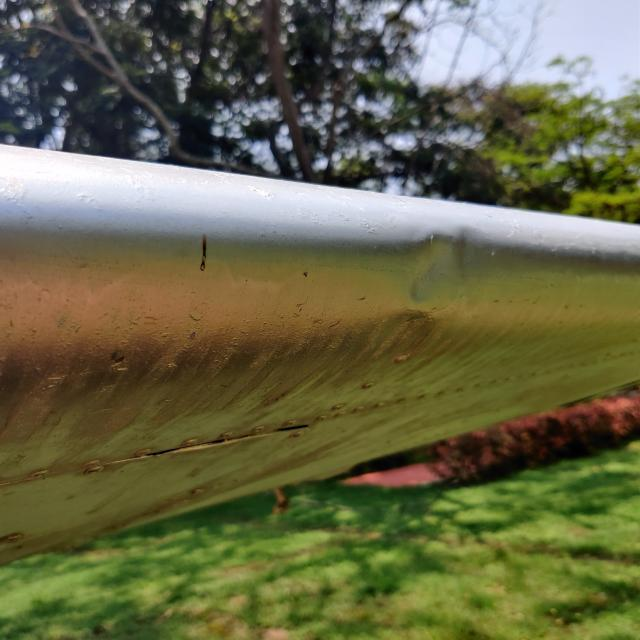dent: (384, 209, 493, 324)
